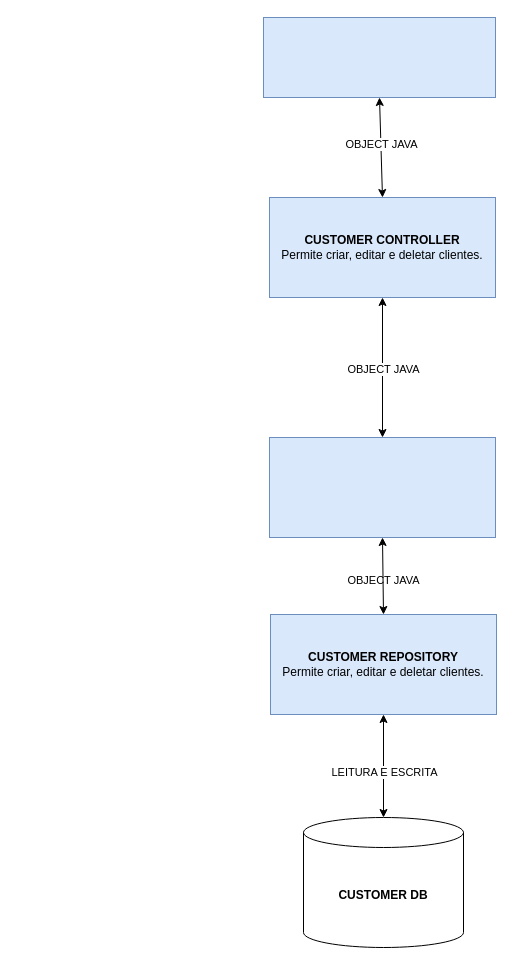
Image size: 514x965. Some labels were removed from this diagram. Here are the shapes that lost their labels. From the top down, the centre of each, then its label:
At pixel 379 57: "API--CUSTOMER Java / Spring Boot".
At pixel 382 487: "CUSTOMER SERVICE Permite criar, editar e deletar clientes.".
